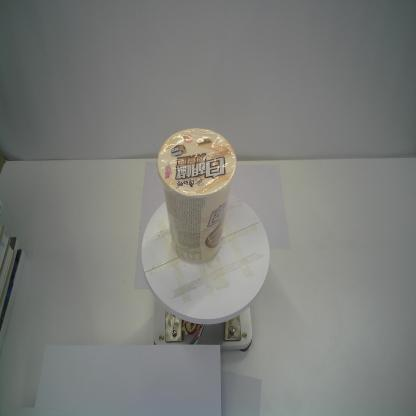Instant Noodles: (155, 126, 238, 266)
